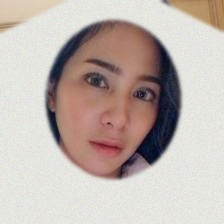Mukena: (1, 25, 224, 224)
